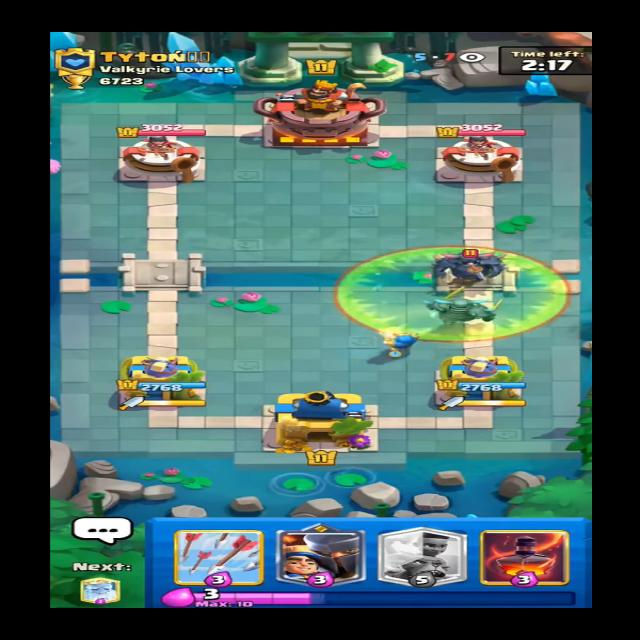goblin-curse: (335, 249, 571, 342)
pekka: (428, 241, 510, 281)
